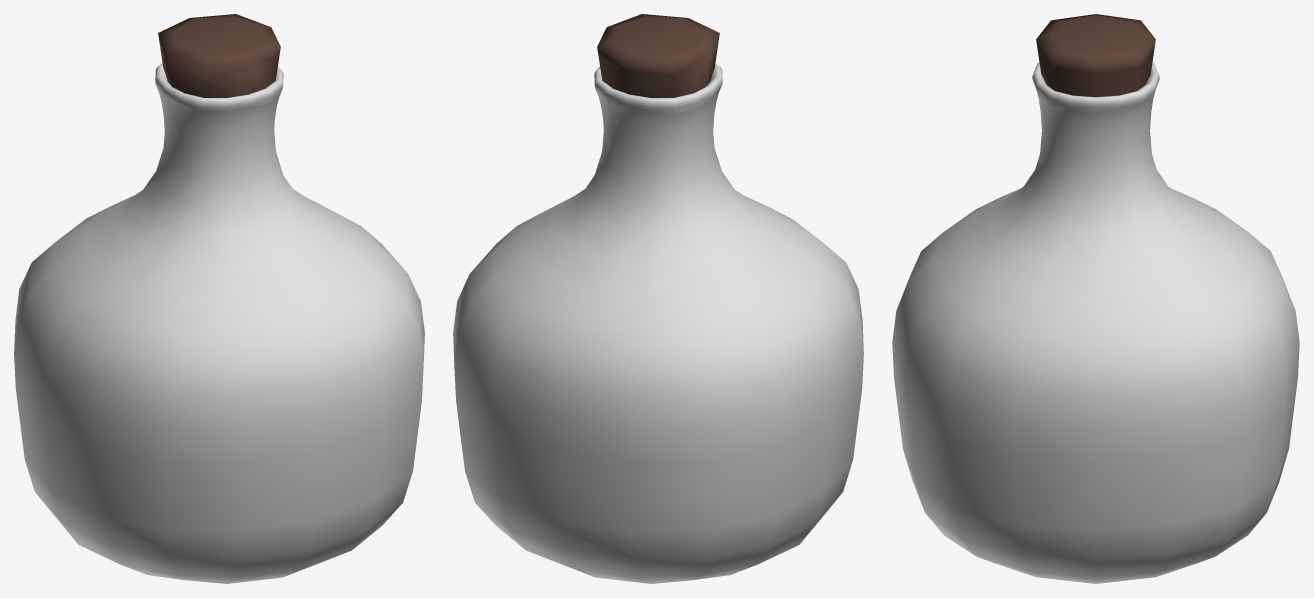
Rendered from quaternius-rpg-items-potion-2-filled.glb.
3 views of the same model, side by side, from view 1: azimuth 30°, elevation 25°; view 2: azimuth 150°, elevation 25°; view 3: azimuth 270°, elevation 25° (orthographic).
Parts seen in each view (by area): view 1: Potion2_Filled; view 2: Potion2_Filled; view 3: Potion2_Filled.
Boxes of the visible parts, left/top/right/bottom form: Potion2_Filled: left=14, top=14, right=424, bottom=583; Potion2_Filled: left=453, top=14, right=863, bottom=583; Potion2_Filled: left=892, top=14, right=1299, bottom=583.
Size of the model in its own units: 0.8768 by 1.22 by 0.8768.
